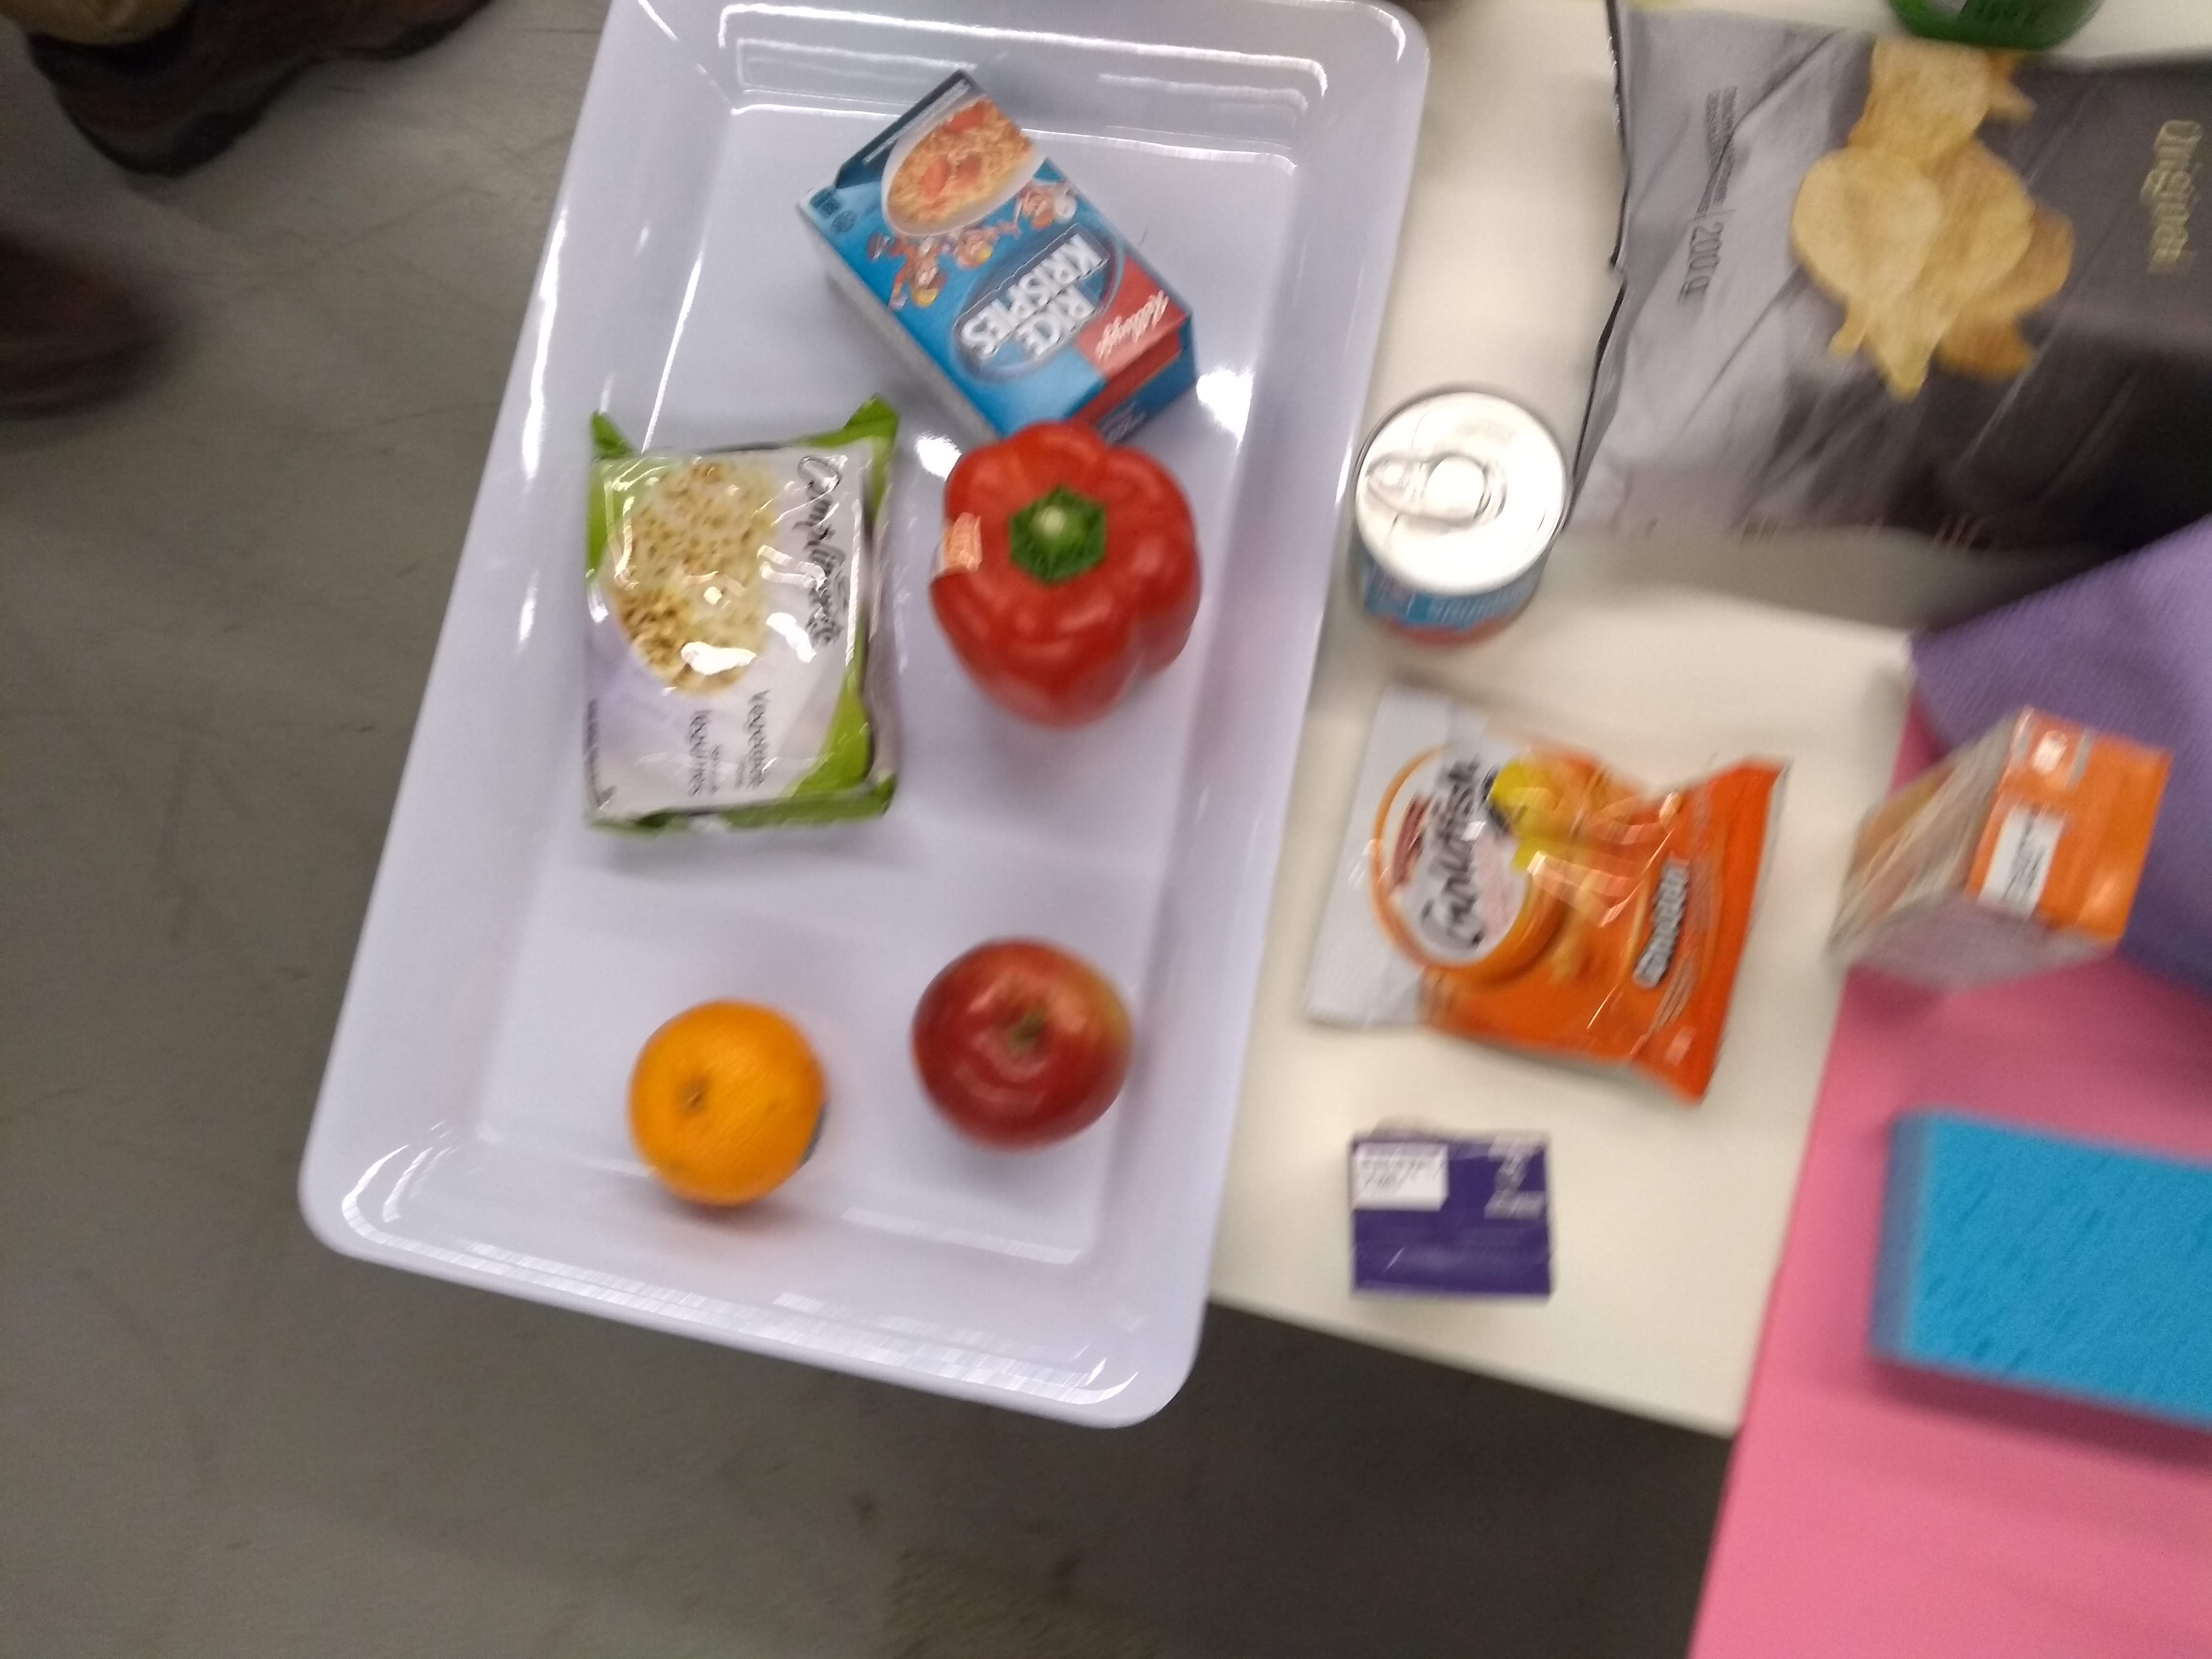apple: (902, 931, 1139, 1157)
cereal: (798, 70, 1204, 486)
crackers: (1280, 680, 1797, 1115)
grape_juice: (1332, 1112, 1561, 1310)
noodles: (570, 392, 911, 842)
orange: (617, 990, 834, 1218)
orange_juice: (1808, 695, 2188, 1011)
paprika: (920, 422, 1211, 737)
sausages: (1338, 375, 1580, 655)
